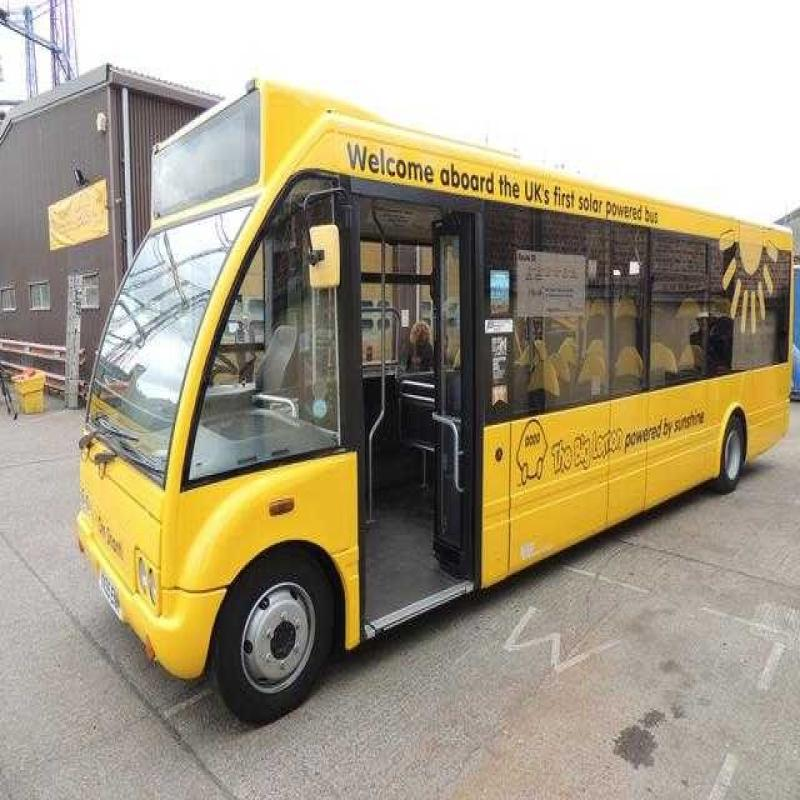bus: (70, 57, 800, 623)
